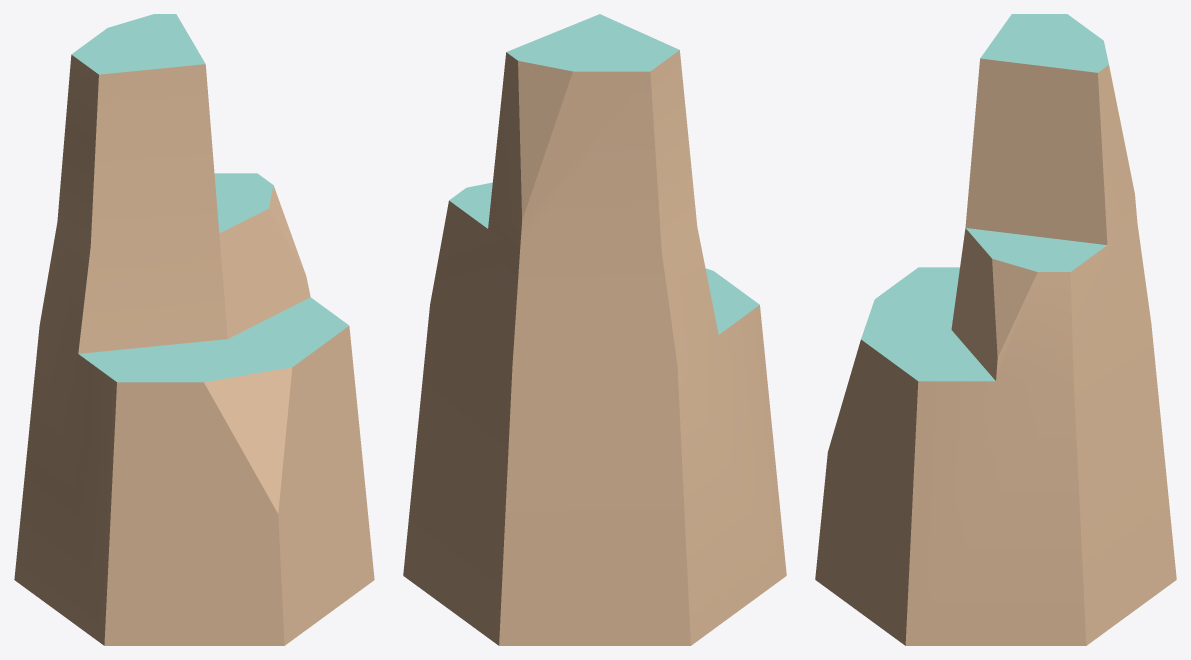
The model's file is rock_tall7.glb.
The picture shows the model from 3 angles, left to right: view 1: azimuth 30°, elevation 25°; view 2: azimuth 150°, elevation 25°; view 3: azimuth 270°, elevation 25°; orthographic projection. The views are drawn at different scales.
Visible parts, largest first — view 1: rock_tall7; view 2: rock_tall7; view 3: rock_tall7.
Boxes of the visible parts, bbox=[...] form: rock_tall7: bbox=[14, 14, 374, 645]; rock_tall7: bbox=[403, 14, 786, 645]; rock_tall7: bbox=[815, 14, 1176, 645].
Size of the model in its own units: 0.4249 by 0.7829 by 0.4907.
